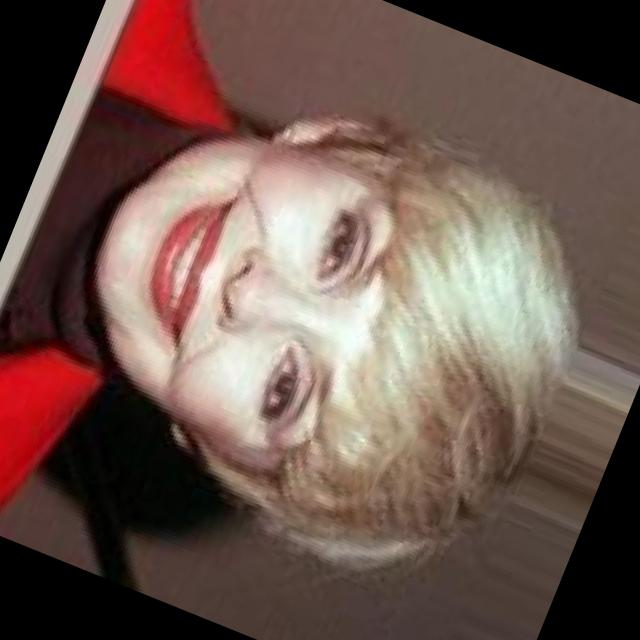bareface: (18, 32, 538, 566)
